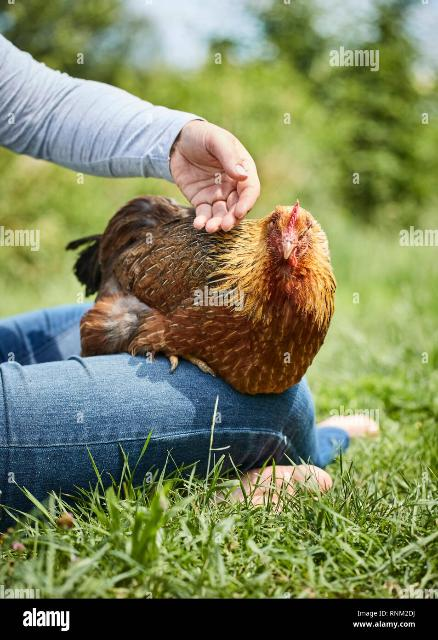Chicken: (64, 195, 337, 397)
